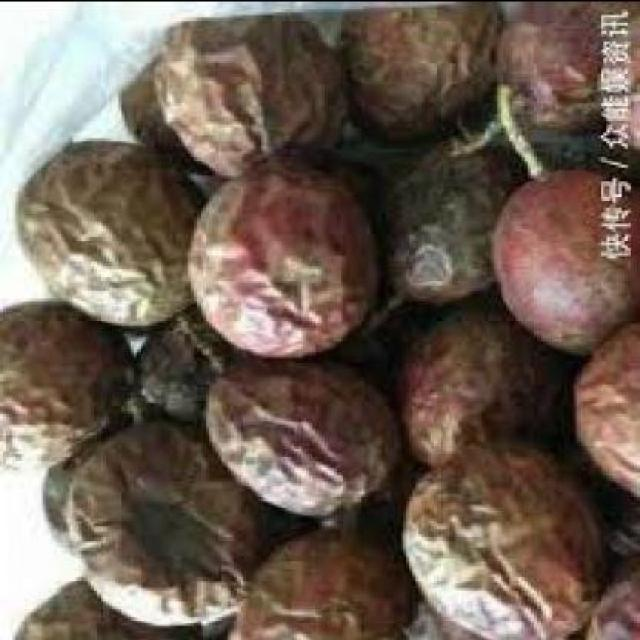BIODEGRADABLE: (397, 442, 605, 638), (186, 153, 380, 356), (73, 423, 270, 622), (12, 142, 200, 329), (194, 359, 400, 516), (152, 16, 342, 182), (364, 138, 522, 332), (331, 3, 509, 160), (392, 306, 570, 463), (486, 172, 636, 356), (464, 2, 624, 147), (0, 303, 131, 472), (222, 530, 412, 638), (9, 578, 220, 638), (567, 325, 638, 503), (119, 61, 212, 174), (128, 322, 228, 423), (39, 438, 101, 557), (591, 22, 637, 158), (578, 560, 638, 638), (591, 486, 637, 560), (400, 602, 494, 638)
